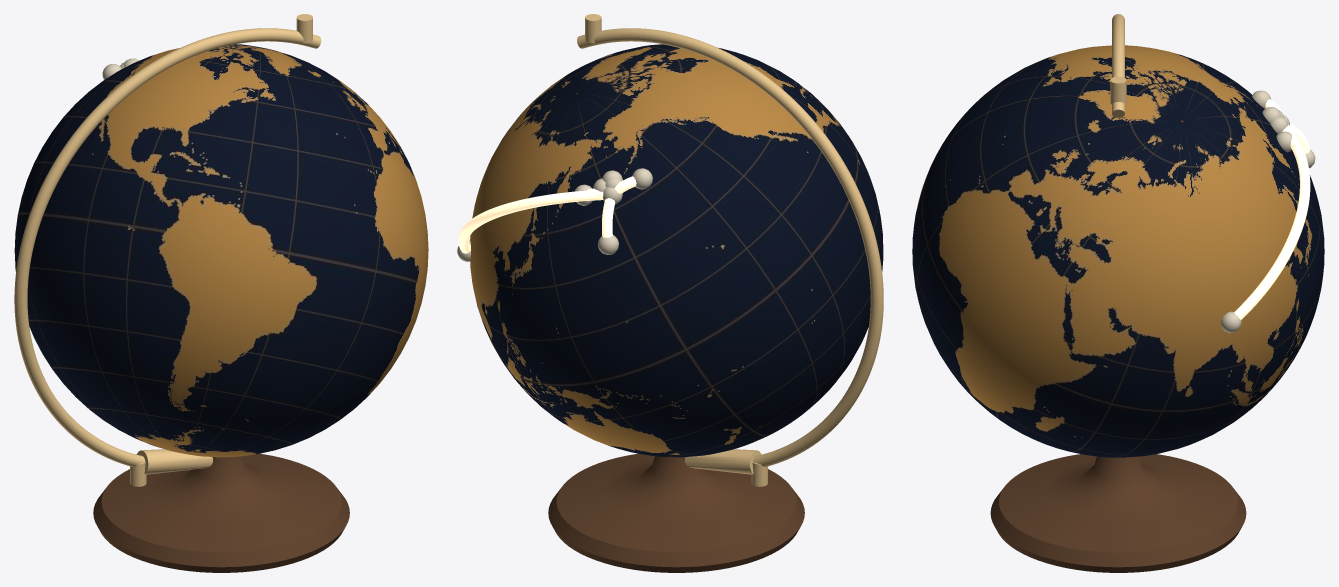
File: globe_c.glb
3 views of the same model, side by side, from view 1: azimuth 30°, elevation 25°; view 2: azimuth 150°, elevation 25°; view 3: azimuth 270°, elevation 25° (orthographic).
Parts seen in each view (by area): view 1: earth, stand, meridian, post; view 2: earth, stand, meridian, arc.006, post; view 3: earth, stand, arc.006, meridian.
Boxes of the visible parts, bbox=[...] form: earth: bbox=[14, 44, 428, 457]; stand: bbox=[93, 453, 349, 572]; meridian: bbox=[14, 28, 321, 466]; post: bbox=[136, 449, 212, 474]; earth: bbox=[470, 44, 883, 457]; stand: bbox=[548, 453, 804, 572]; meridian: bbox=[577, 28, 883, 466]; arc.006: bbox=[458, 190, 603, 253]; post: bbox=[685, 449, 761, 474]; earth: bbox=[912, 45, 1324, 457]; stand: bbox=[990, 454, 1246, 572]; arc.006: bbox=[1234, 129, 1310, 319]; meridian: bbox=[1112, 14, 1124, 117].
Bounding box in the file's own units: 1.08 × 1.3 × 0.9988.
Materials: 5 (1 with a texture image).
